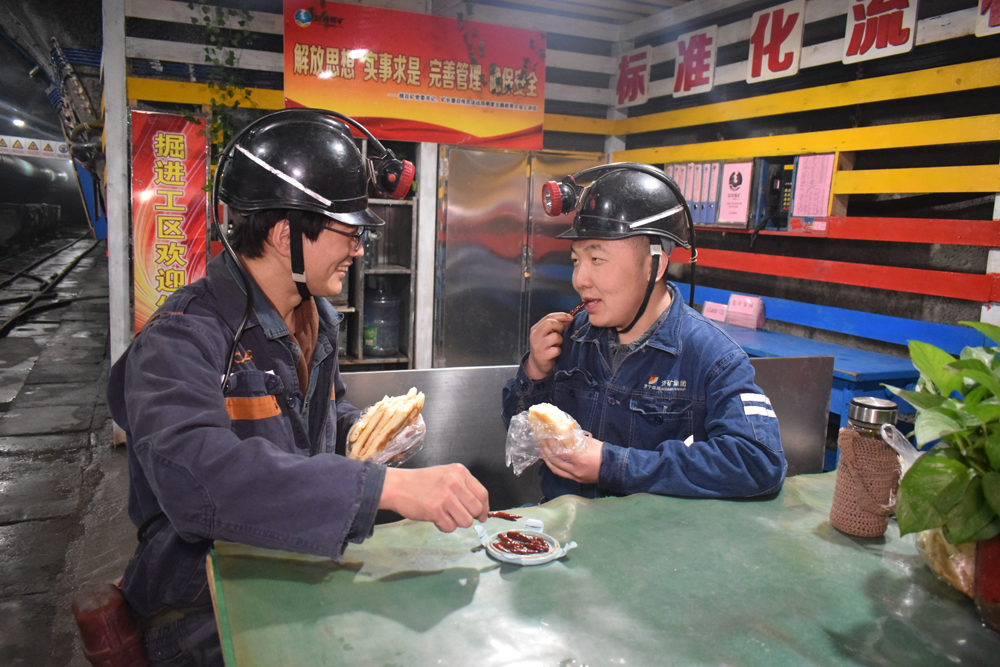helmet: (216, 114, 404, 305), (524, 160, 706, 340)
